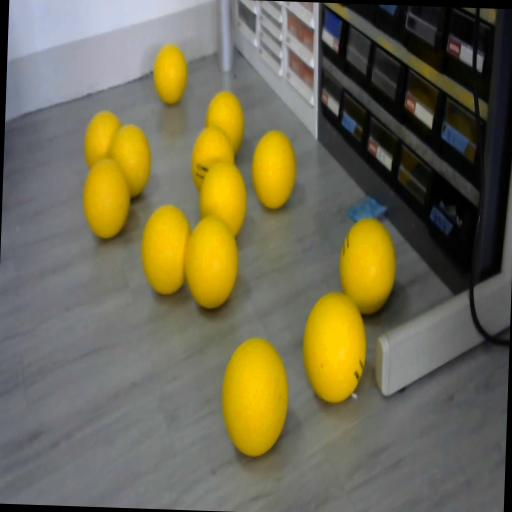FUEL: (218, 334, 290, 456), (299, 288, 368, 402), (337, 216, 397, 316), (138, 201, 191, 295), (81, 156, 132, 240), (196, 160, 248, 238), (250, 129, 298, 210), (204, 90, 246, 152), (83, 109, 122, 169), (152, 42, 188, 104)
